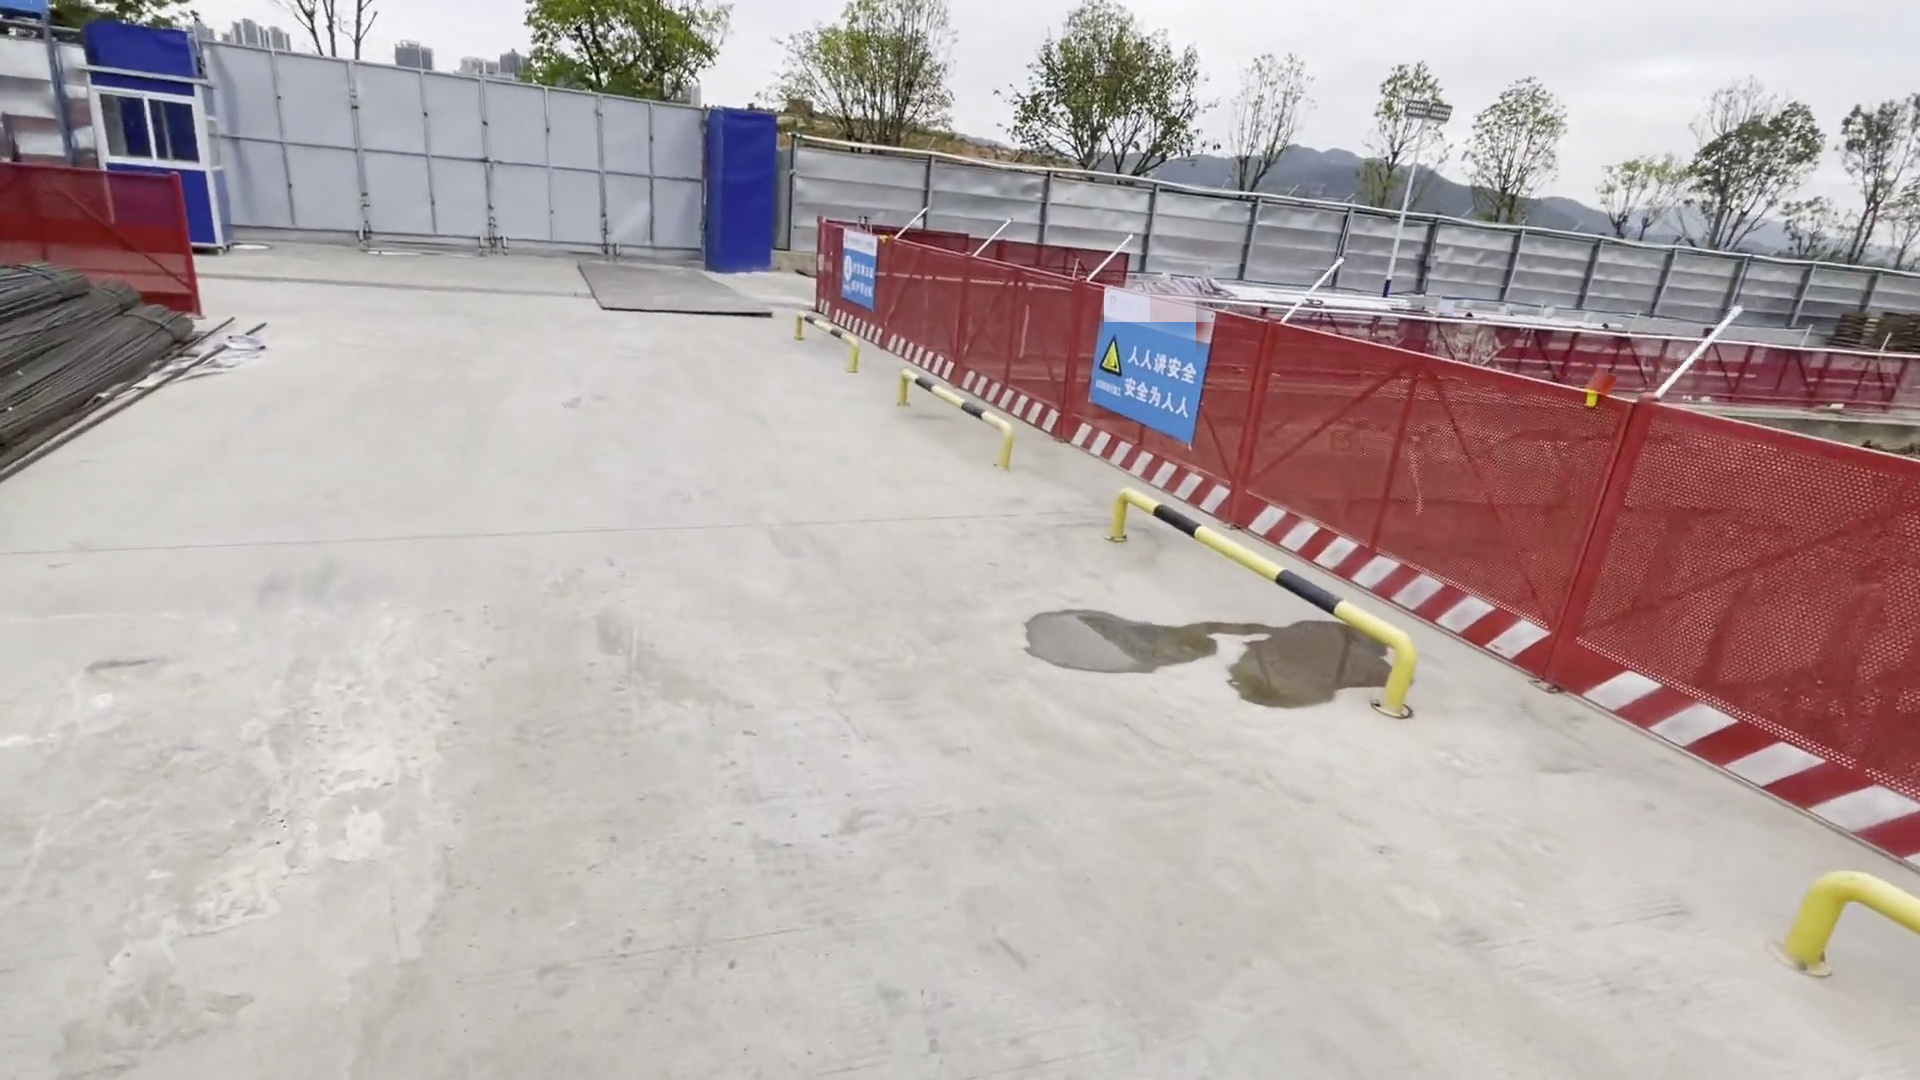fence: (793, 208, 1920, 881), (5, 162, 210, 309)
rebar: (1, 258, 174, 454)
slogan: (1096, 338, 1199, 427), (837, 253, 884, 307)
